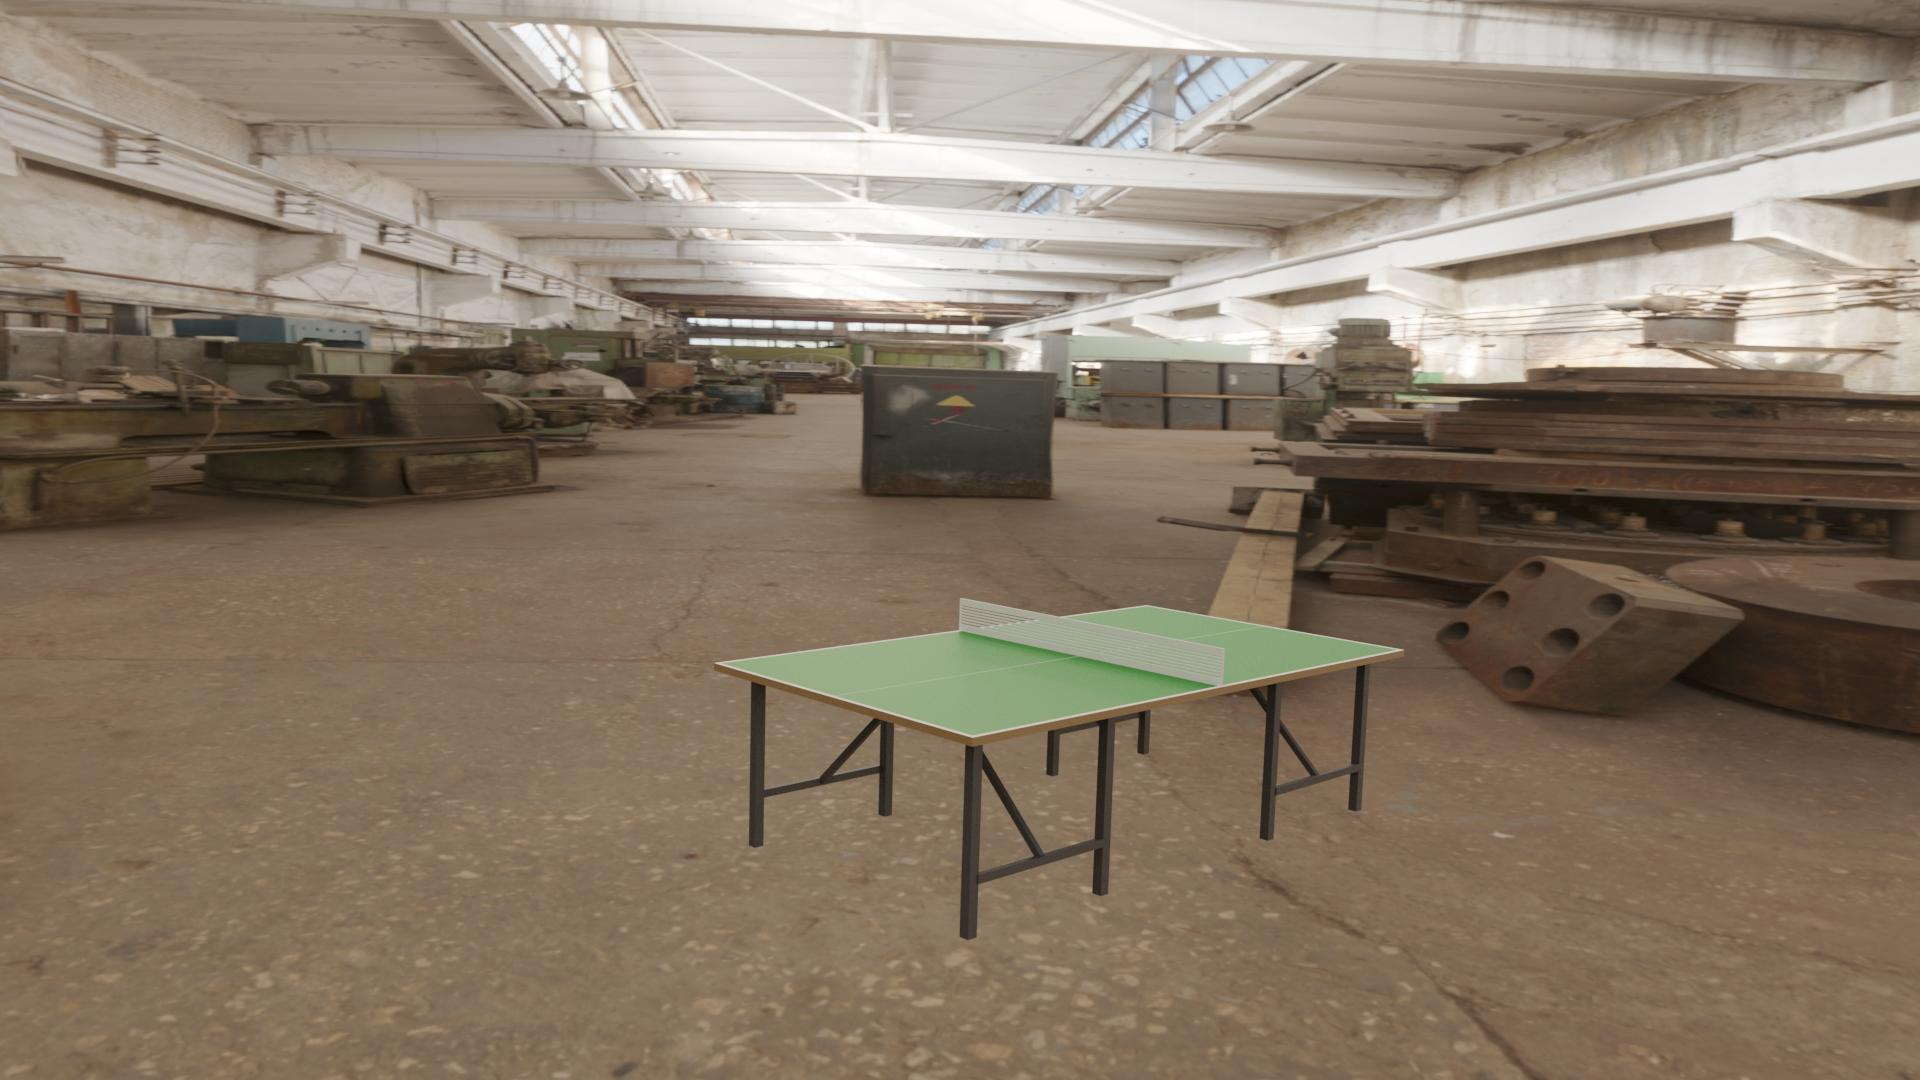table: (721, 607, 1398, 736)
